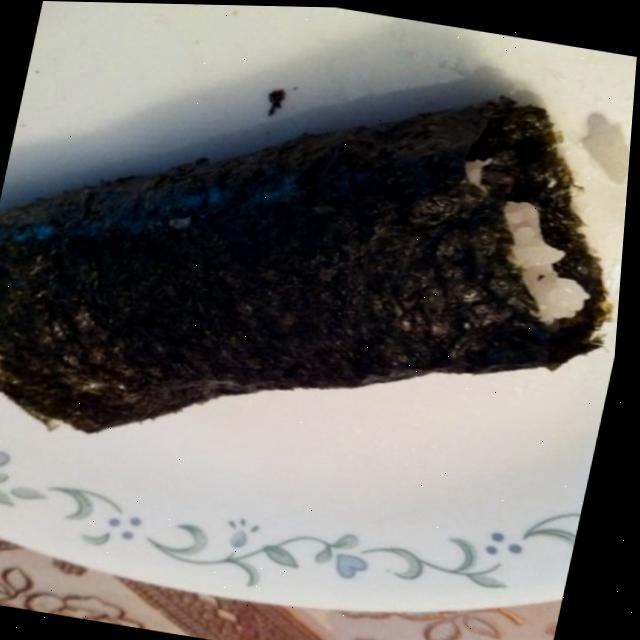寿司卷物: (0, 1, 640, 546)
